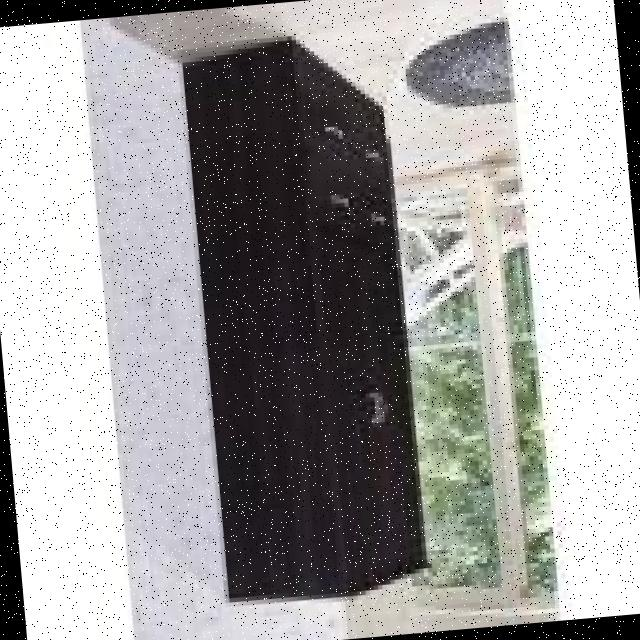Closet: (170, 18, 440, 615)
